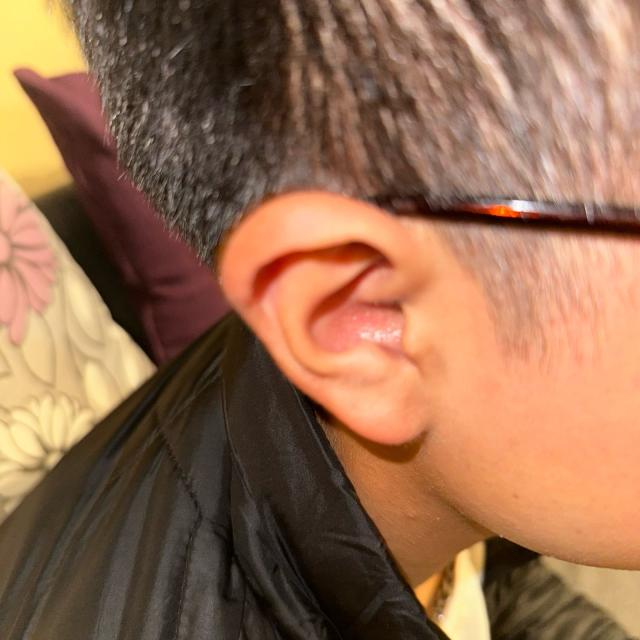ear: (218, 191, 456, 438)
